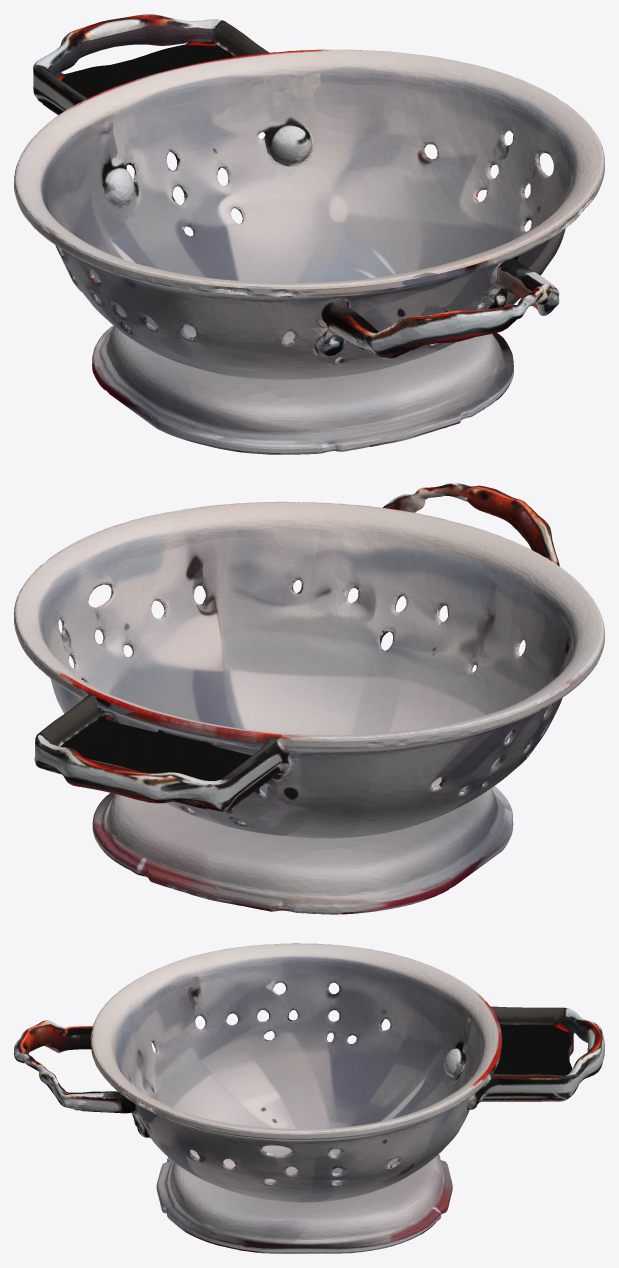
The model's file is image_0002_segmented.glb.
The picture shows the model from 3 angles, top to bottom: view 1: azimuth 30°, elevation 25°; view 2: azimuth 150°, elevation 25°; view 3: azimuth 270°, elevation 25°; orthographic projection. The views are drawn at different scales.
Parts seen in each view (by area): view 1: tmph4thudhx.ply; view 2: tmph4thudhx.ply; view 3: tmph4thudhx.ply.
Part boxes in pixels (bbox=[...]): tmph4thudhx.ply: bbox=[14, 14, 604, 454]; tmph4thudhx.ply: bbox=[14, 483, 604, 914]; tmph4thudhx.ply: bbox=[14, 943, 604, 1253].
Size of the model in its own units: 1.52 by 0.5769 by 2.
Materials: 1 (1 with a texture image).
